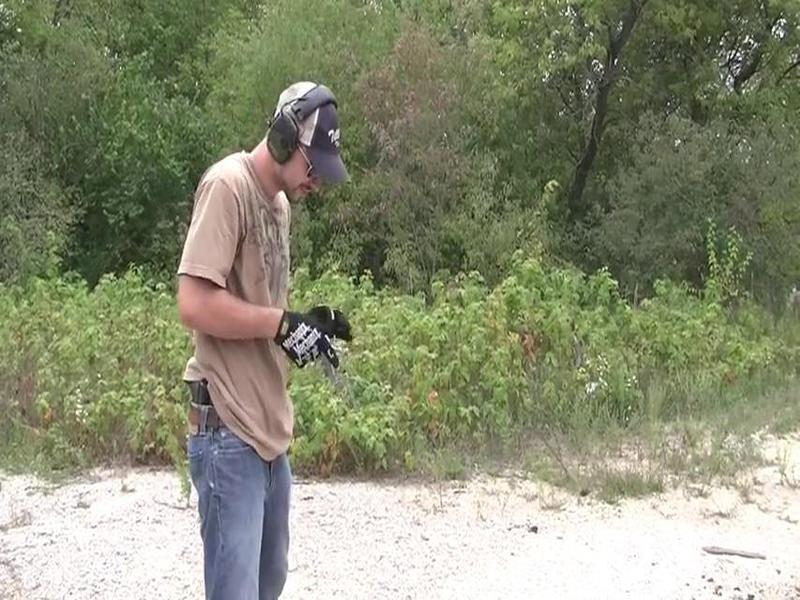Revolver: (279, 312, 367, 407)
